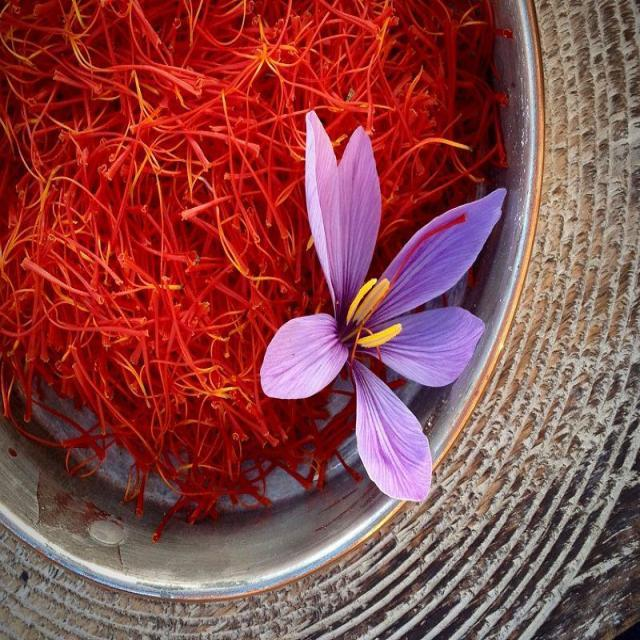Flower: (262, 103, 522, 505)
stigma: (386, 211, 469, 282)
